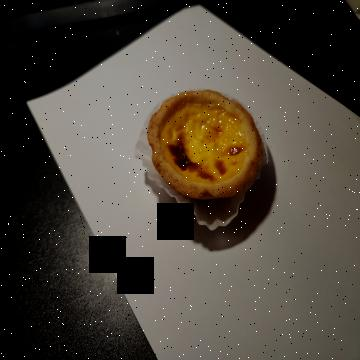EggTart: (148, 89, 264, 203)
